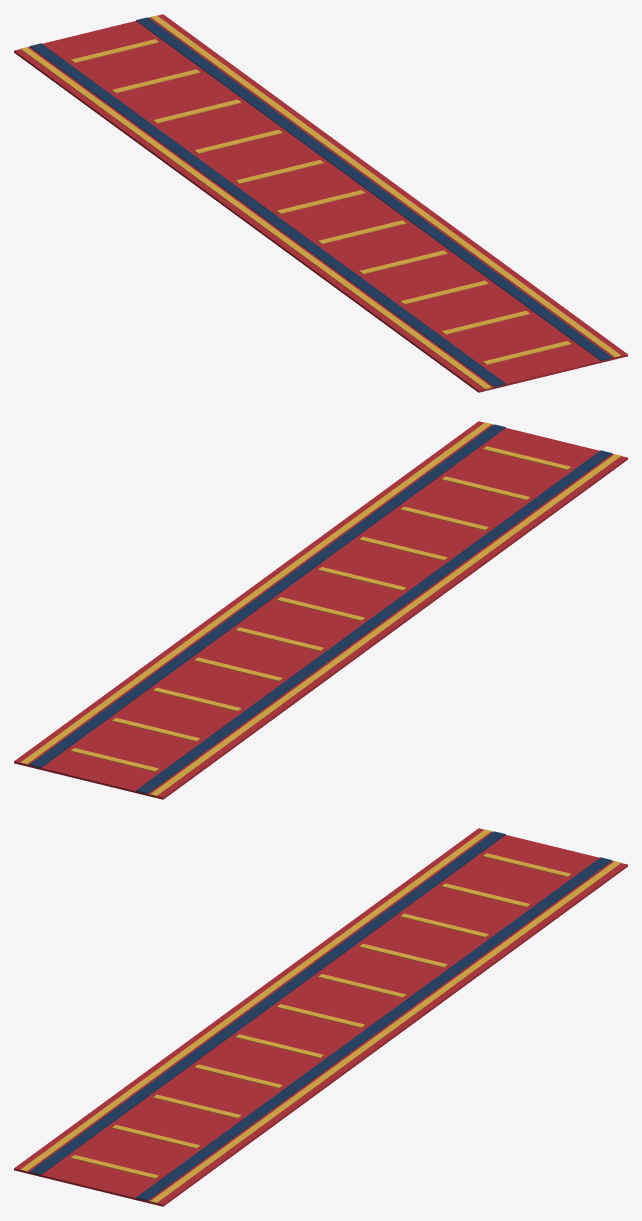
The model's file is ShipCarpet.glb.
The picture shows the model from 3 angles, top to bottom: view 1: azimuth 30°, elevation 25°; view 2: azimuth 150°, elevation 25°; view 3: azimuth 330°, elevation 25°; orthographic projection.
Parts seen in each view (by area): view 1: ShipCarpet; view 2: ShipCarpet; view 3: ShipCarpet.
Part boxes in pixels (x1,y1,x2,y2): ShipCarpet: (14, 14, 627, 392); ShipCarpet: (14, 421, 627, 799); ShipCarpet: (14, 828, 627, 1206).
Bounding box in the file's own units: 2.3 × 0.042 × 12.4.
